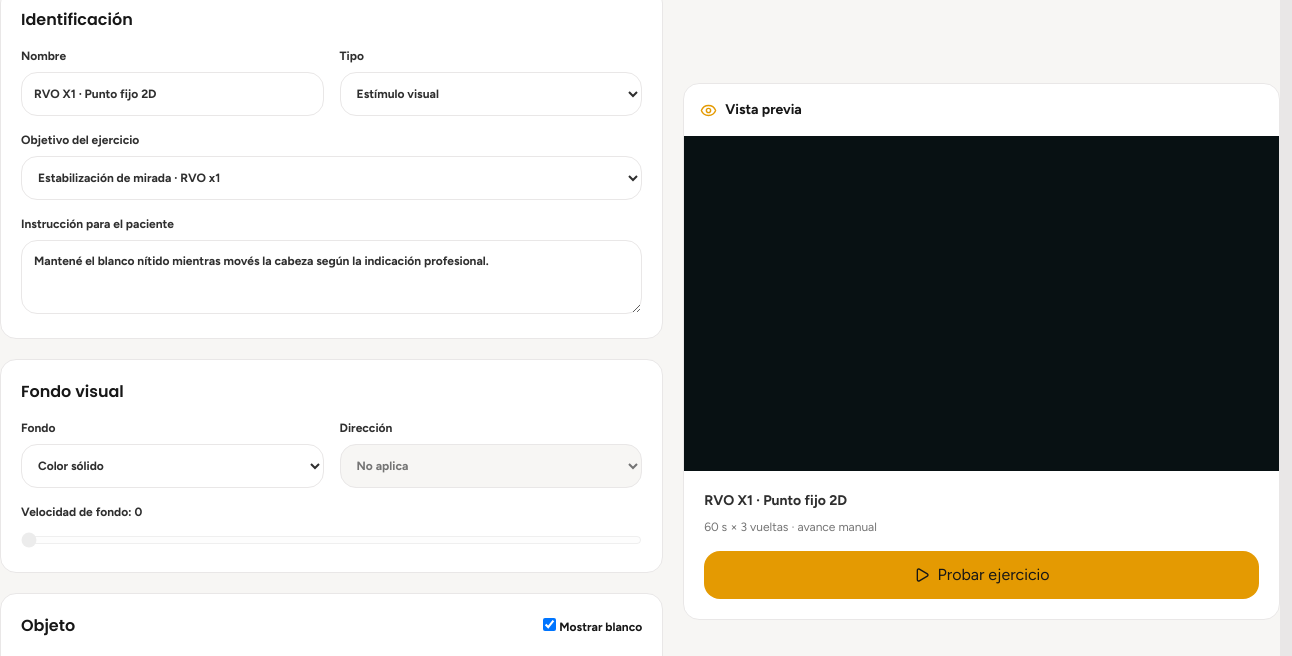
Test: creación de ejercicios › Quest clínico fuerza dosis por tiempo y avance automático
Select "Sacadas" in the dropdown labelled "Objetivo del ejercicio" at (332, 178), box [21, 156, 642, 200]
(page scrolled)
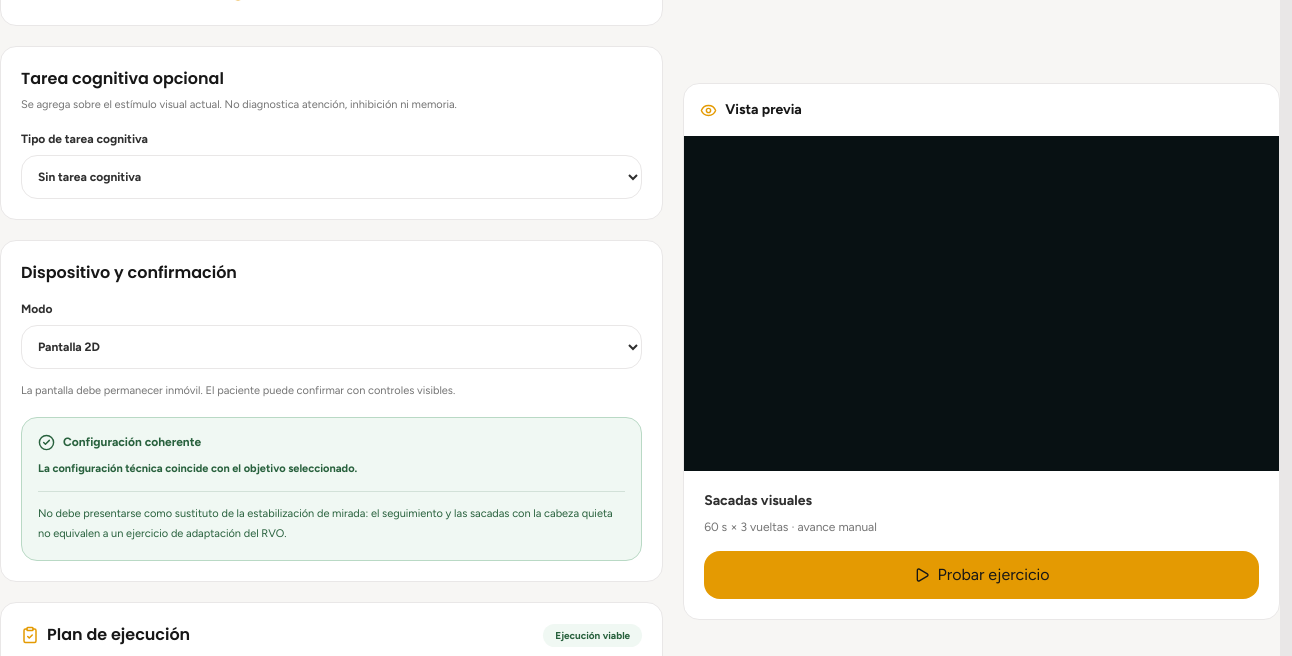
Select "Meta Quest · clínica, navegador 2D" in the dropdown labelled "Modo" at (332, 347), box [21, 325, 642, 369]
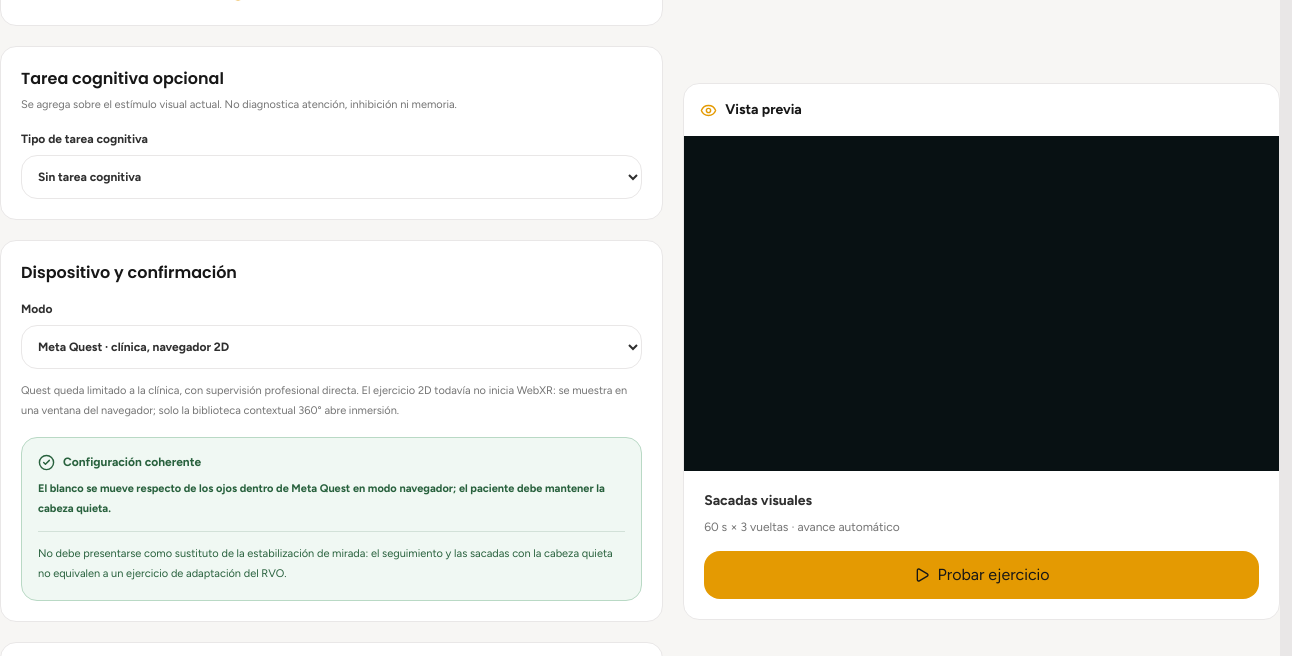
Expected: the text "todavía no inicia WebXR" is shown, [21, 384, 627, 417]
